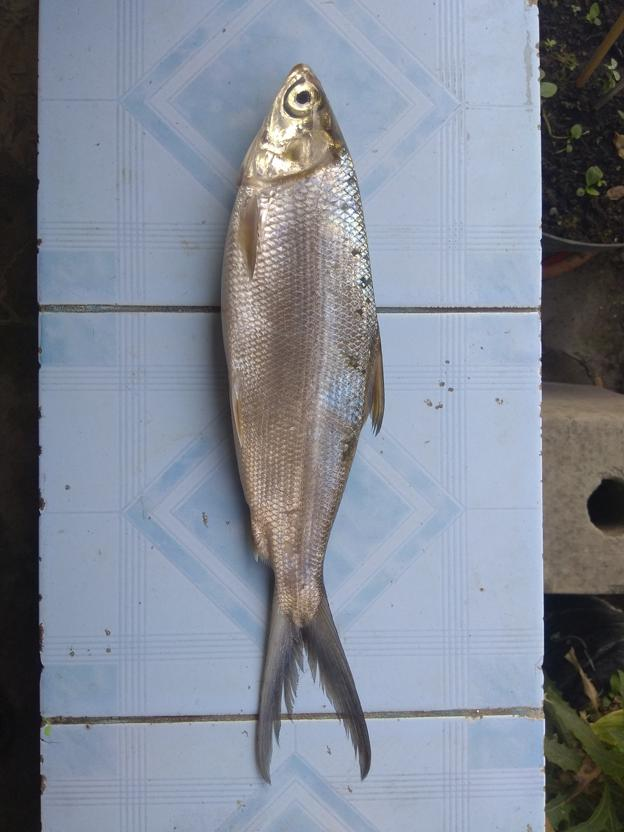Fish head: (237, 60, 353, 186)
Fish tail: (251, 587, 375, 788)
